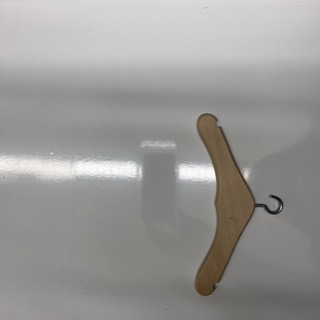rack: (196, 114, 282, 296)
